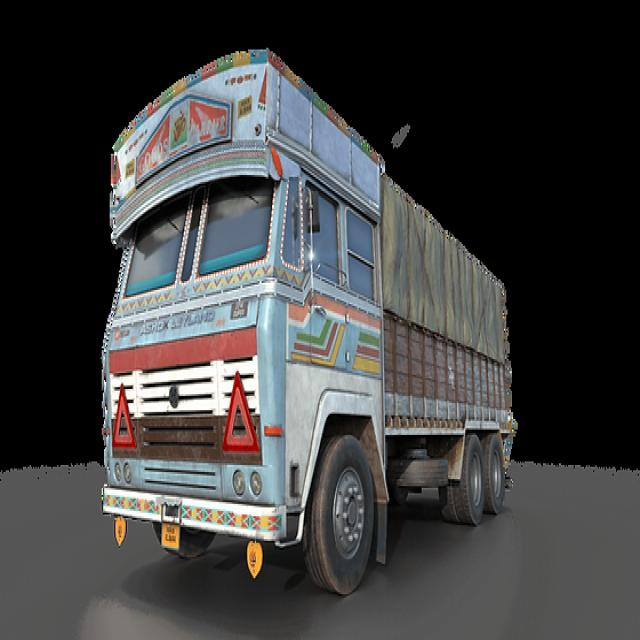Truck: (107, 52, 513, 600)
